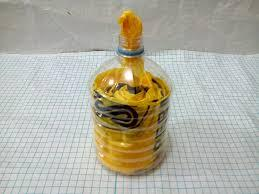Plastic bottle: (84, 38, 192, 177)
